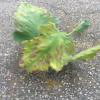Tomato mold leaf: (19, 23, 77, 77)
